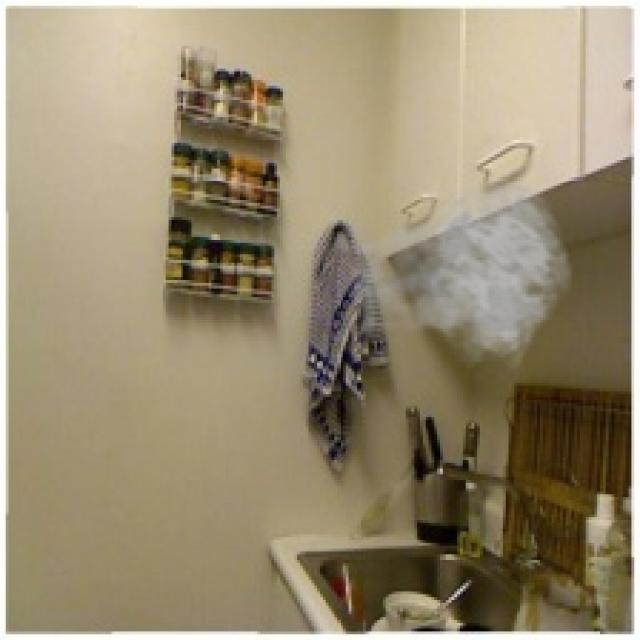smoke: (332, 174, 574, 374)
